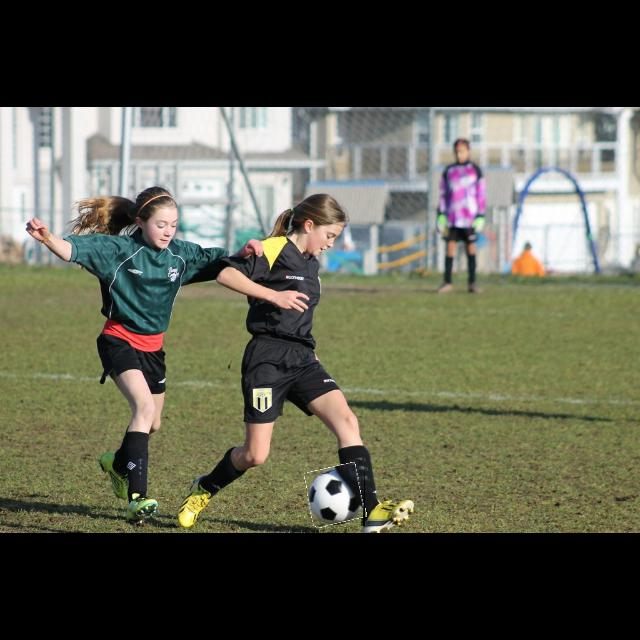Football: (307, 464, 365, 526)
